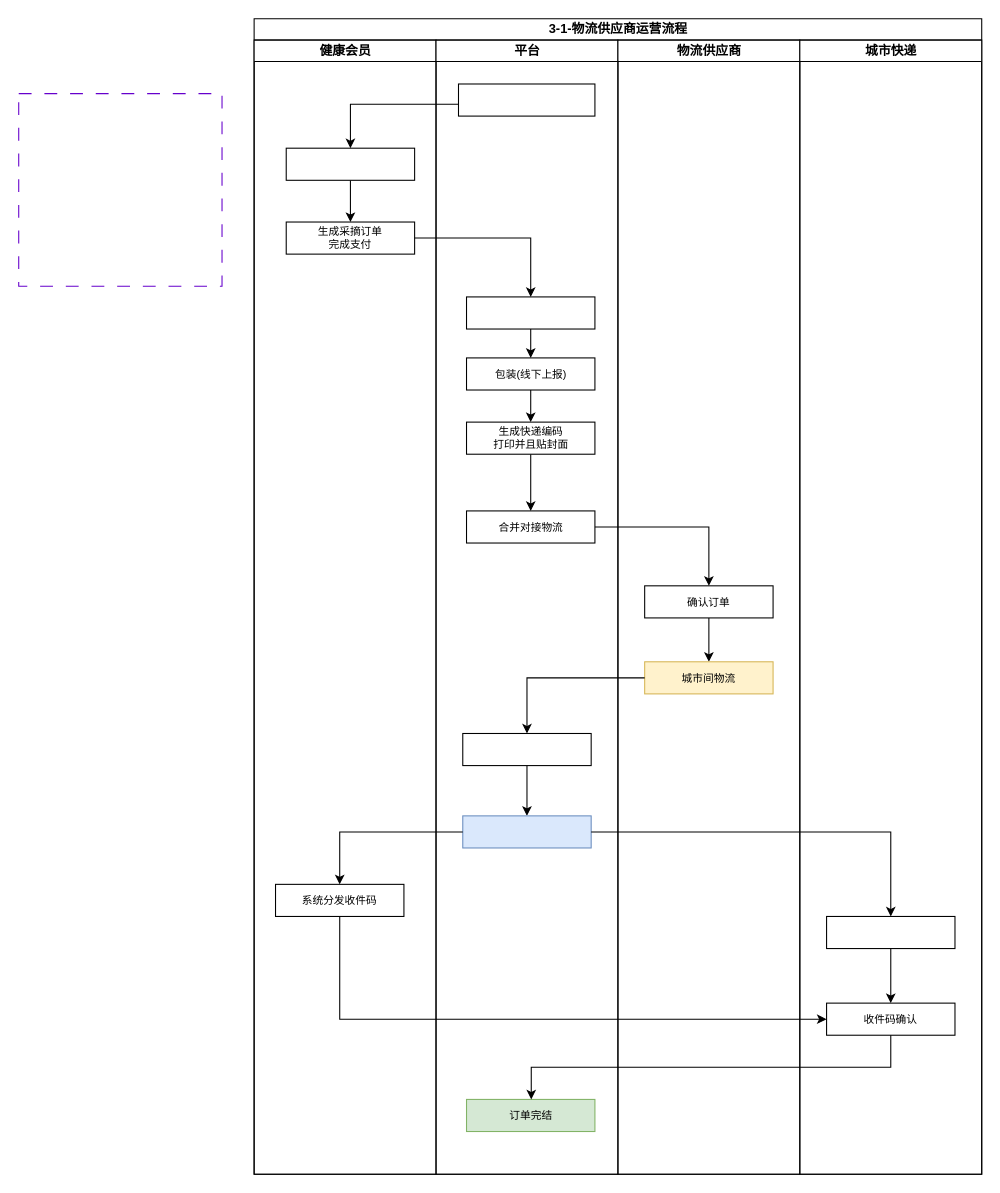
The diagram is 1000 pixels wide and 1193 high, and some of its shapes have lost their labels. Here are the shapes that lost their labels. From the top down, the centre of each, then its label:
At (x=526, y=99): "农业专家设置采摘节点".
At (x=350, y=163): "会员发出采摘需求 选择包装格式".
At (x=120, y=189): "采摘需求 采摘方式： 一次性、分批次 采摘规格：大小混合、只采摘大的； 包装规格： 5斤装，10斤装，20斤装， 整袋或者整箱".
At (x=530, y=312): "组织采摘(线下上报)".
At (x=526, y=749): "收货确认".
At (x=526, y=831): "指派城市快递".
At (x=890, y=932): "当地配送".
